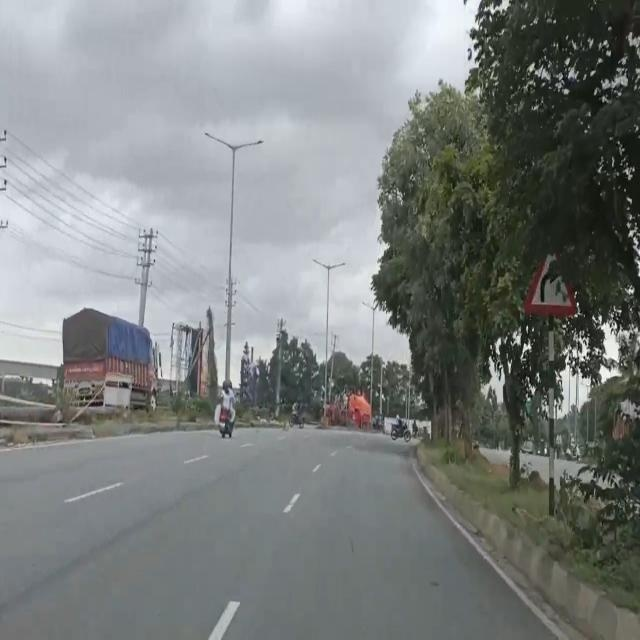bien_nguy_hiem: (523, 235, 579, 320)
